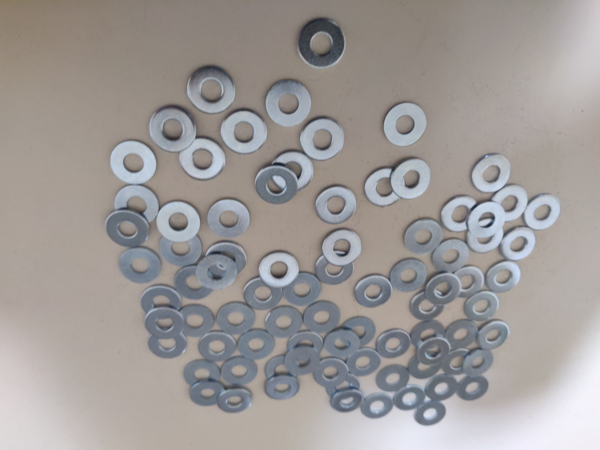circle: (297, 18, 346, 69), (188, 66, 236, 114), (150, 105, 196, 154), (267, 78, 312, 127), (221, 110, 269, 154), (111, 141, 157, 185), (300, 117, 345, 161), (181, 136, 225, 181), (382, 103, 428, 146), (156, 200, 201, 242), (115, 184, 159, 226), (255, 165, 299, 205), (270, 151, 314, 191), (314, 185, 357, 225), (471, 152, 512, 193), (391, 157, 431, 199), (208, 199, 251, 238), (364, 167, 405, 207), (107, 211, 150, 248), (197, 252, 237, 291), (119, 248, 162, 284), (160, 231, 204, 266), (322, 228, 362, 266), (258, 252, 300, 288), (205, 242, 247, 278), (175, 265, 216, 301), (244, 275, 284, 311), (442, 195, 479, 233), (492, 184, 530, 221), (523, 194, 562, 230), (315, 250, 354, 286), (143, 285, 183, 320), (468, 201, 505, 238), (466, 218, 504, 254), (404, 219, 443, 254), (284, 275, 323, 310), (177, 304, 216, 339), (390, 258, 428, 293), (217, 302, 256, 336), (433, 240, 471, 274), (354, 274, 392, 308), (265, 306, 303, 340), (145, 307, 184, 340), (148, 327, 188, 359), (500, 227, 537, 261), (304, 300, 341, 334), (238, 329, 276, 362), (486, 260, 523, 293), (449, 265, 485, 298), (426, 273, 462, 306), (340, 317, 377, 348), (324, 329, 361, 359), (200, 332, 237, 362), (184, 361, 222, 390), (466, 290, 499, 323), (445, 320, 479, 352), (409, 290, 444, 321), (288, 331, 324, 361), (285, 346, 321, 376), (325, 370, 361, 400), (410, 320, 446, 350), (476, 320, 510, 351), (314, 357, 349, 387), (377, 329, 411, 359), (265, 356, 300, 385), (222, 358, 257, 387), (346, 350, 381, 379), (190, 380, 227, 407), (409, 350, 442, 380), (376, 364, 410, 393), (217, 387, 253, 414), (418, 337, 451, 366), (264, 375, 301, 400), (462, 350, 495, 378), (442, 349, 475, 376), (362, 393, 394, 420), (394, 385, 426, 411), (415, 401, 447, 427), (426, 375, 458, 401), (331, 389, 364, 413), (458, 376, 489, 401)
